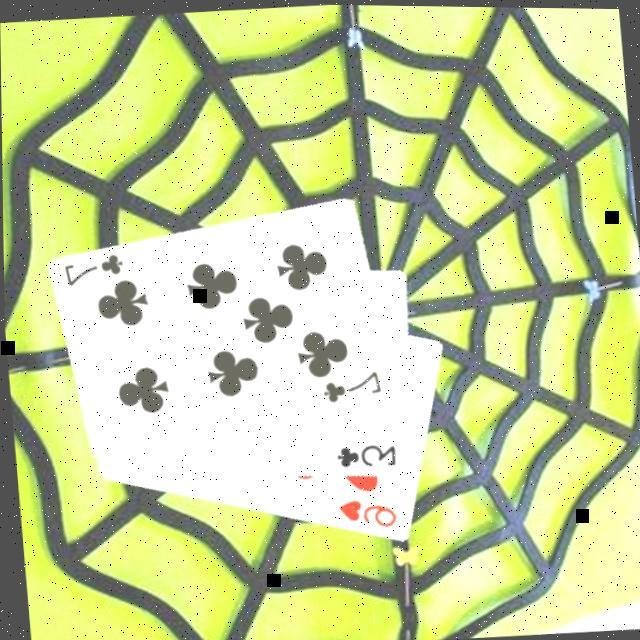3C: (334, 439, 400, 472)
7C: (60, 249, 128, 291), (320, 366, 386, 406)
9H: (334, 492, 400, 534)
